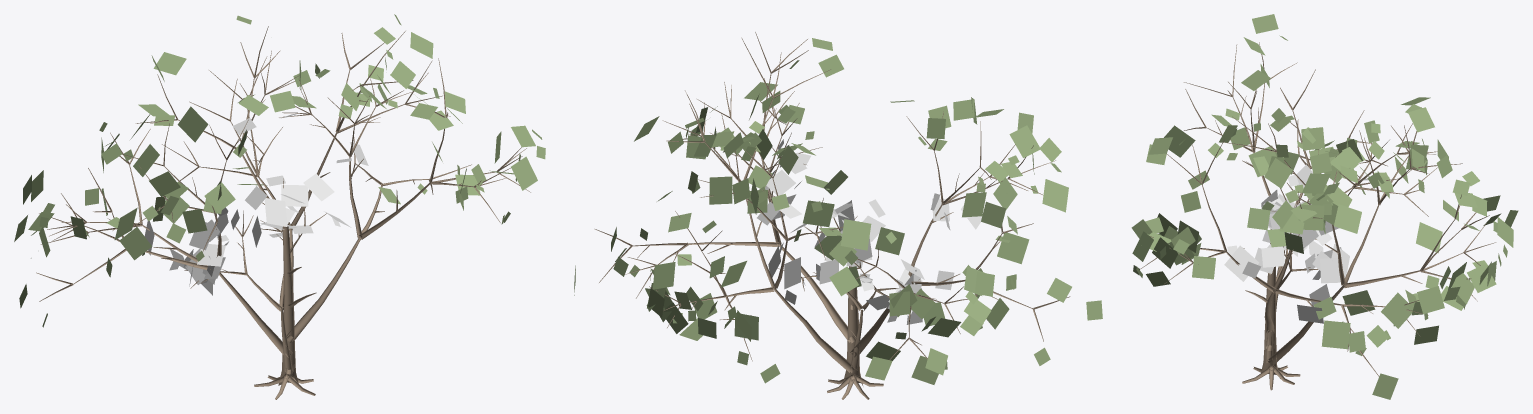
The model's file is tree-c-far.glb.
3 renders of one model, left to right at view 1: azimuth 30°, elevation 25°; view 2: azimuth 150°, elevation 25°; view 3: azimuth 270°, elevation 25°, orthographic. The views are drawn at different scales.
Visible parts, largest first — view 1: leaf, wood, leafDeep; view 2: leaf, wood, leafDeep; view 3: leaf, wood, leafDeep.
Part boxes in pixels (<box>): leaf: <box>14,14,545,327</box>; wood: <box>36,26,530,399</box>; leafDeep: <box>144,113,368,295</box>; leaf: <box>574,38,1102,384</box>; wood: <box>594,32,1070,399</box>; leafDeep: <box>757,139,982,324</box>; leaf: <box>1131,14,1518,399</box>; wood: <box>1140,42,1496,390</box>; leafDeep: <box>1224,164,1368,323</box>.
Bounding box in the file's own units: 20.22 × 13.43 × 14.69.
